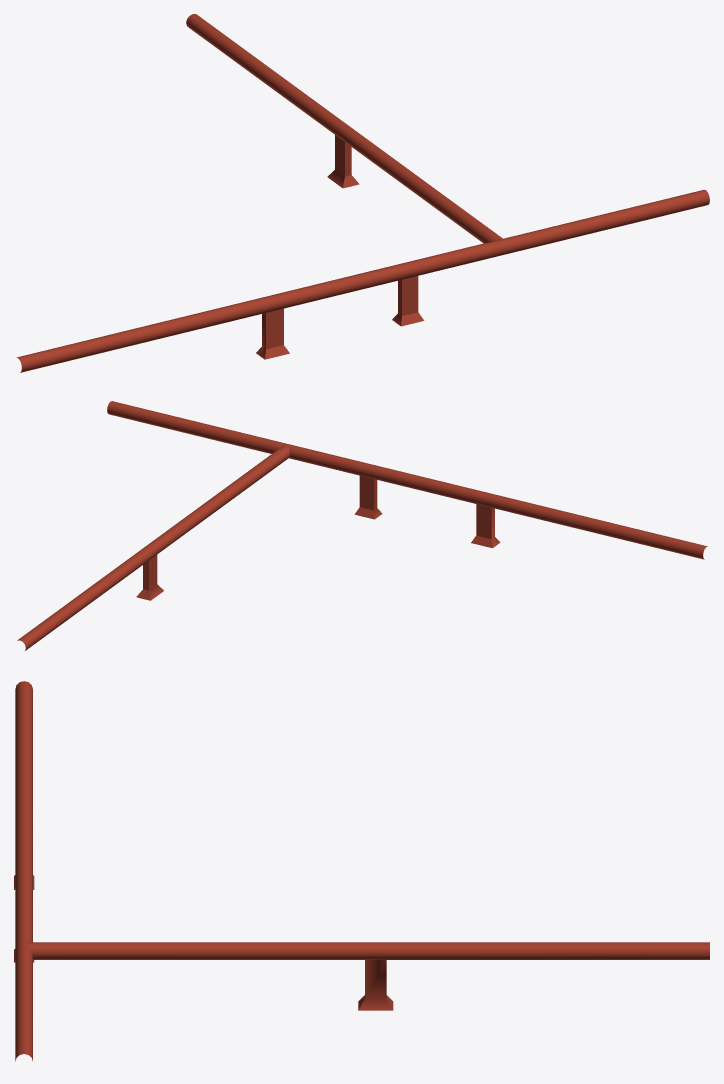
Rendered from Vents ex.glb.
3 renders of one model, top to bottom at view 1: azimuth 30°, elevation 25°; view 2: azimuth 150°, elevation 25°; view 3: azimuth 270°, elevation 25°, orthographic. The views are drawn at different scales.
Parts seen in each view (by area): view 1: Vents, Vents.002, Vents.001, Vents.003; view 2: Vents, Vents.002, Vents.001, Vents.003; view 3: Vents, Vents.003.
Part boxes in pixels (x1=…): Vents: x1=16, y1=14, x2=709, y2=372; Vents.002: x1=256, y1=308, x2=289, y2=359; Vents.001: x1=392, y1=276, x2=424, y2=326; Vents.003: x1=327, y1=135, x2=359, y2=188; Vents: x1=17, y1=401, x2=707, y2=650; Vents.002: x1=471, y1=504, x2=500, y2=548; Vents.001: x1=354, y1=475, x2=382, y2=519; Vents.003: x1=136, y1=555, x2=163, y2=600; Vents: x1=15, y1=681, x2=709, y2=1061; Vents.003: x1=358, y1=960, x2=393, y2=1010.
Size of the model in its own units: 11.56 by 0.9218 by 9.12.
1 material, 1 textured.
